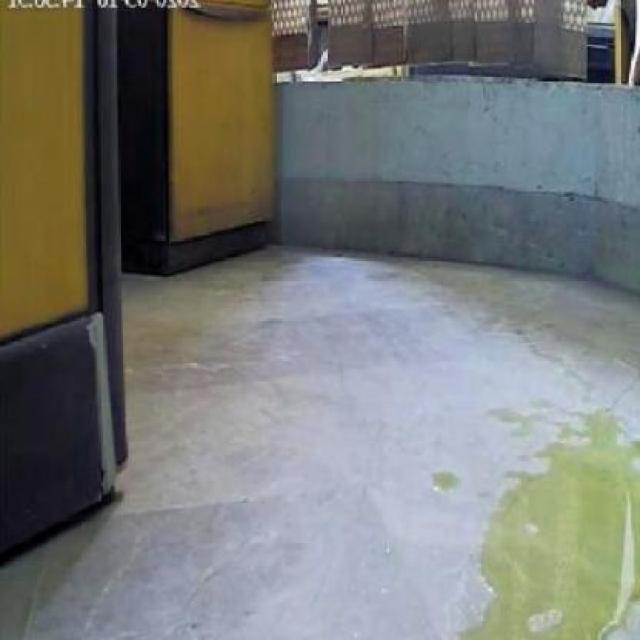spillage: (468, 413, 640, 640)
